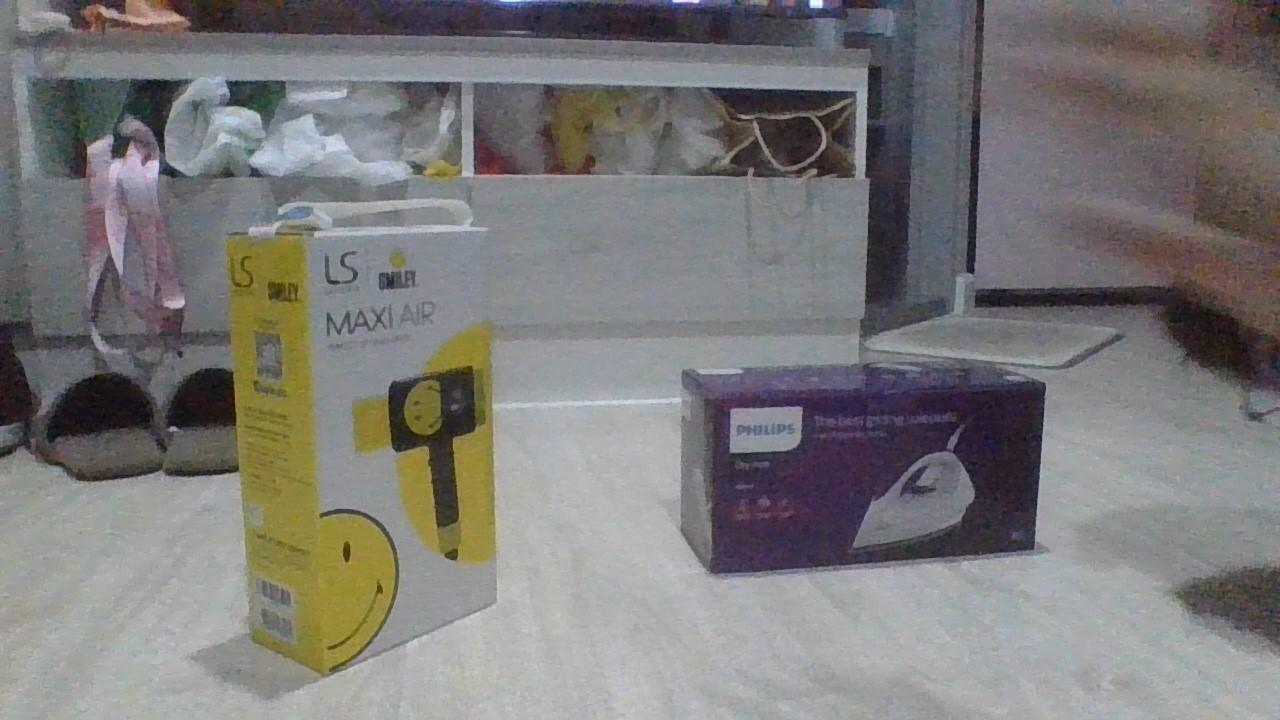Dryer: (221, 197, 502, 676)
IRON: (674, 356, 1049, 580)
